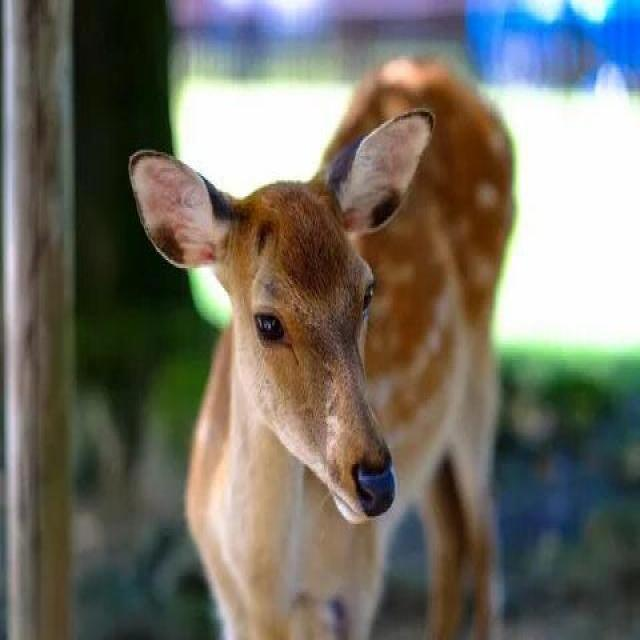deer: (105, 9, 561, 632)
